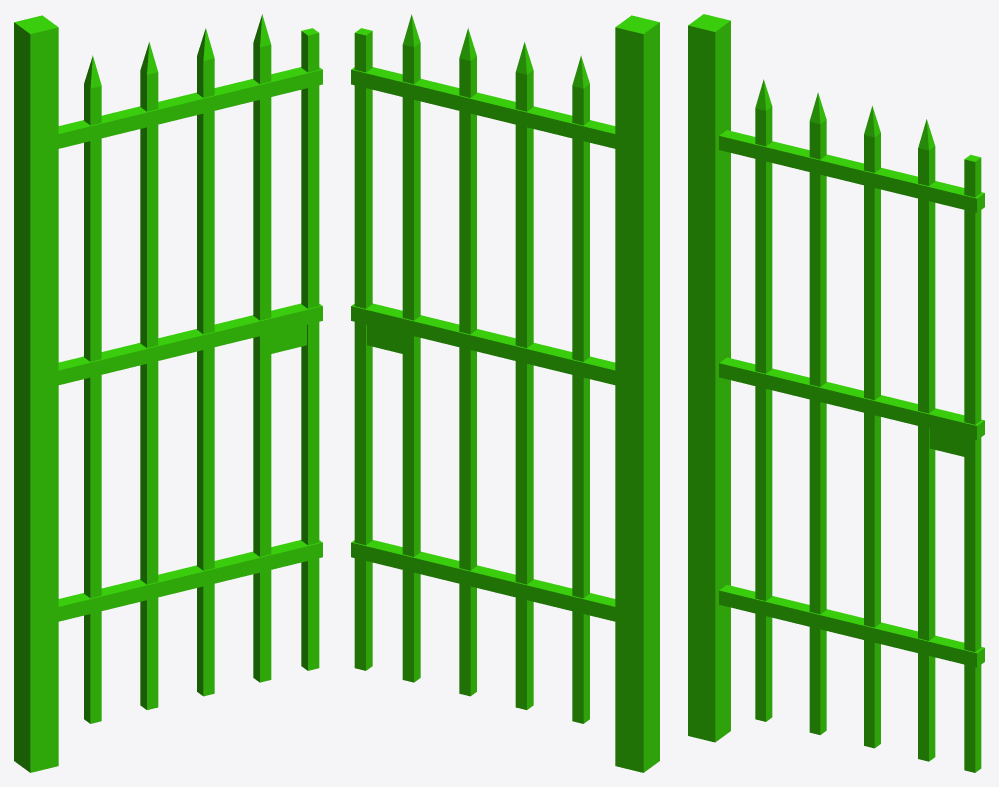
3 renders of one model, left to right at view 1: azimuth 30°, elevation 25°; view 2: azimuth 150°, elevation 25°; view 3: azimuth 330°, elevation 25°, orthographic. The views are drawn at different scales.
Visible parts, largest first — view 1: fence3_double_gate, fence3_double_gate_support; view 2: fence3_double_gate, fence3_double_gate_support; view 3: fence3_double_gate, fence3_double_gate_support.
Part boxes in pixels (x1,y1,x2,y2): fence3_double_gate: (58,14,322,723); fence3_double_gate_support: (14,15,58,772); fence3_double_gate: (351,14,615,723); fence3_double_gate_support: (615,15,659,772); fence3_double_gate: (719,79,984,772); fence3_double_gate_support: (688,14,730,742).
Bounding box in the file's own units: 1.05 × 2.5 × 0.1.
